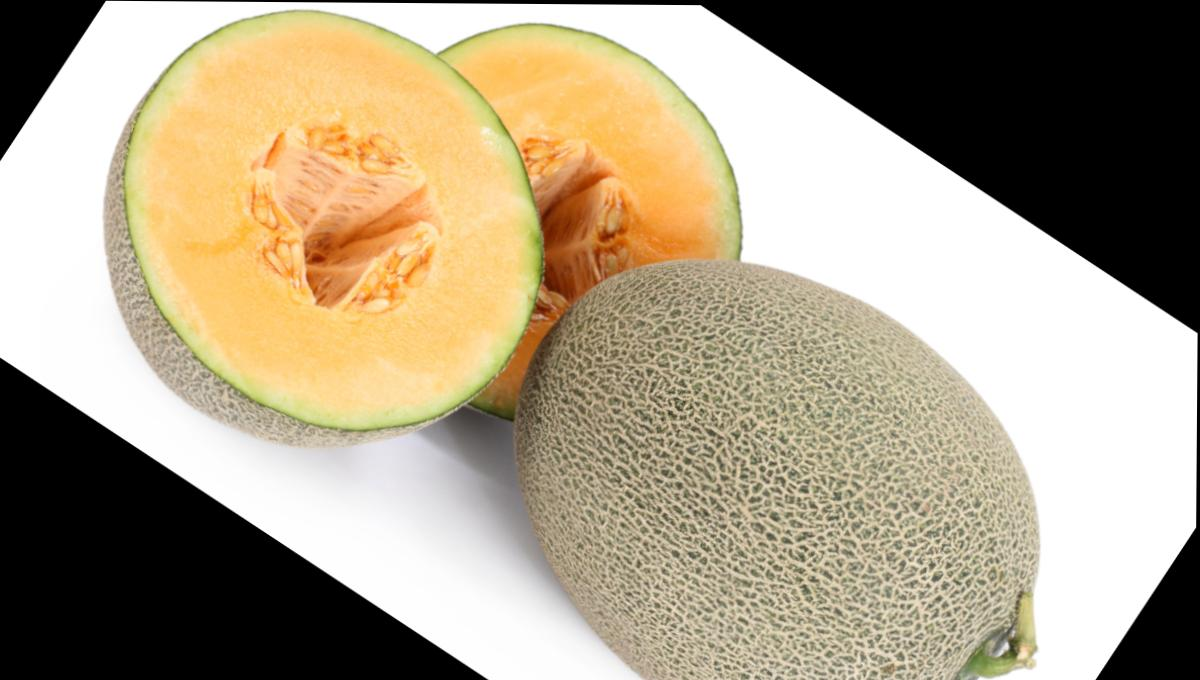organic: (352, 138, 1192, 679), (0, 3, 600, 603)
